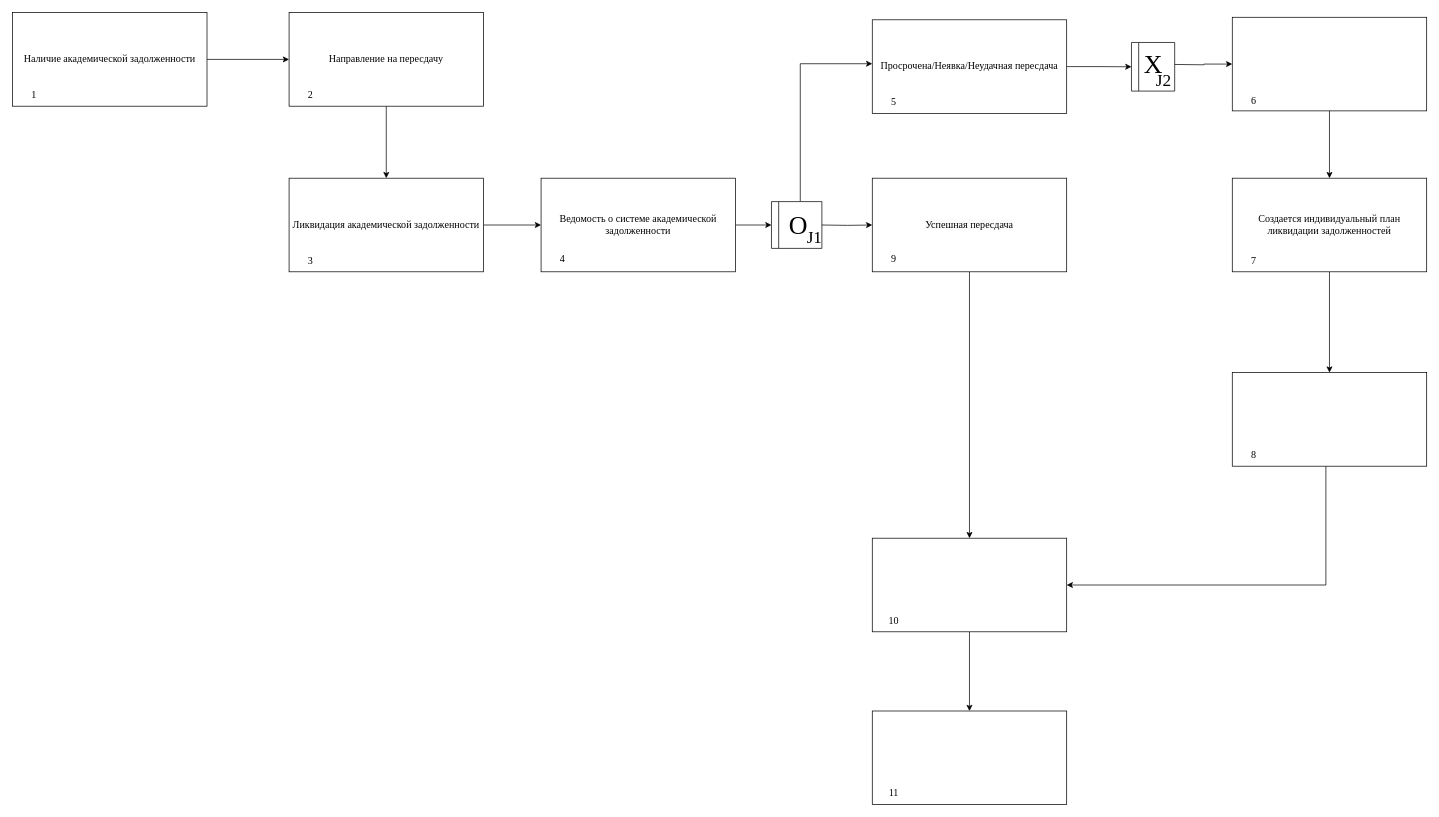
Some shapes in this 1439 by 817 pixel diagram are drawn without their labels. Here are the shapes that lost their labels. From the top down, the box of each, then its label:
(1232, 17, 1427, 111): Заявление на продление сроков ликвидации задолженности
(1232, 372, 1427, 466): Ведомость о системе академической задолженности для студентов с ИОМ
(872, 537, 1067, 632): Рекомендации по студентам
(872, 710, 1067, 805): Протокол заседания комиссии
